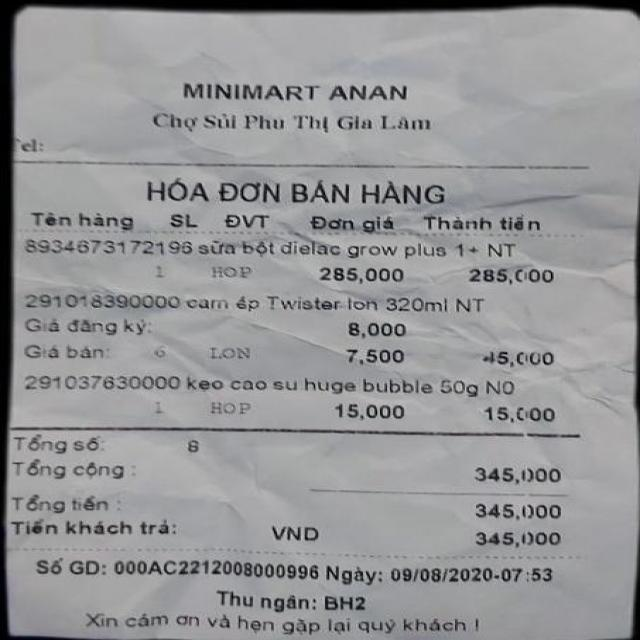Date: (391, 563, 495, 590)
Store_Name: (142, 65, 428, 112)
Total_Amount: (10, 453, 579, 491)
